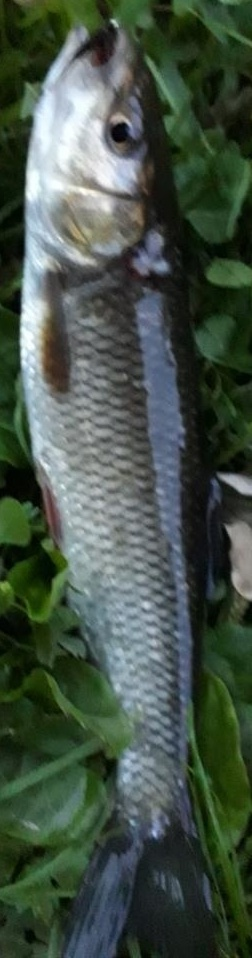Leuciscus cephalus: (20, 20, 232, 958)
